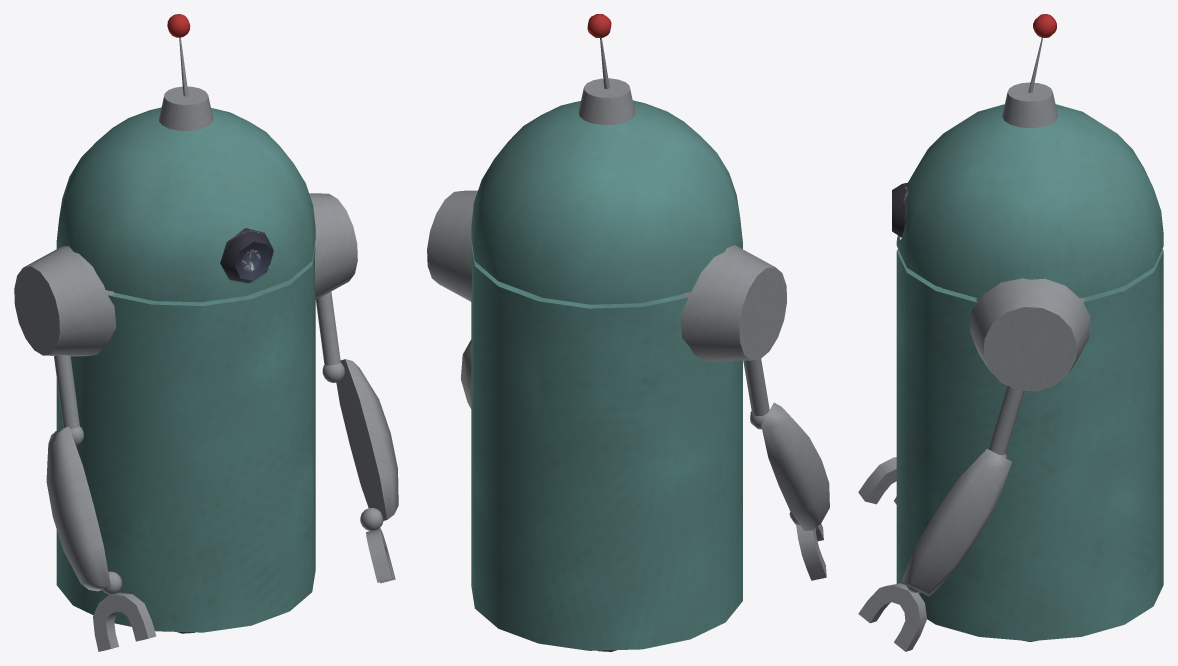
Rendered from m_enemy_field_02.fbx.
3 views of the same model, side by side, from view 1: azimuth 30°, elevation 25°; view 2: azimuth 150°, elevation 25°; view 3: azimuth 270°, elevation 25° (orthographic). The views are drawn at different scales.
Parts seen in each view (by area): view 1: body, head; view 2: body, head; view 3: body, head.
Part boxes in pixels (x1,y1,x2,y2): body: (14,193,398,651); head: (56,14,315,301); body: (427,190,829,651); head: (471,14,742,303); body: (858,249,1163,651); head: (892,14,1163,298).
Size of the model in its own units: 108 by 193 by 85.81.
1 material, 1 textured.
